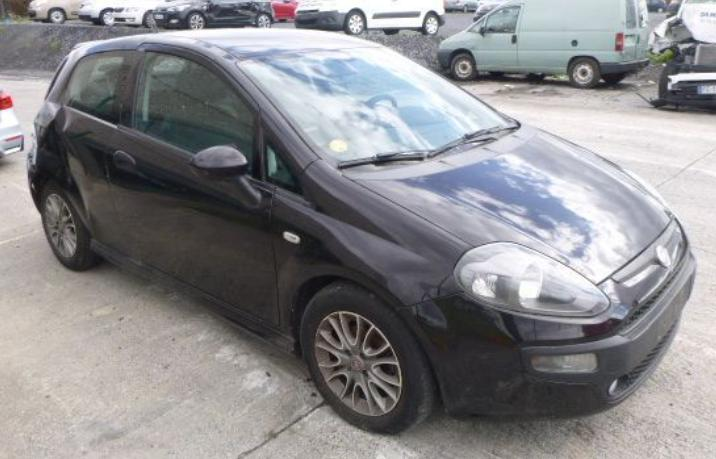Back-bumper: (27, 163, 93, 239)
Back-door: (40, 187, 102, 272)
Back-window: (58, 51, 136, 125)
Fender: (269, 159, 475, 337)
Front-bumper: (398, 247, 697, 421)
Front-door: (105, 42, 310, 328)
Front-window: (137, 52, 255, 176), (267, 142, 306, 198)
Grille: (597, 215, 690, 319)
Headlight: (454, 241, 610, 317), (624, 169, 672, 209)
Hood: (339, 123, 674, 285)
Mirror: (189, 145, 263, 209)
Quarter-panel: (35, 100, 130, 257)
Rocker-panel: (89, 239, 296, 354)
Roof: (74, 28, 383, 64)
Tail-light: (28, 132, 37, 165)
Windshield: (237, 47, 519, 173)
